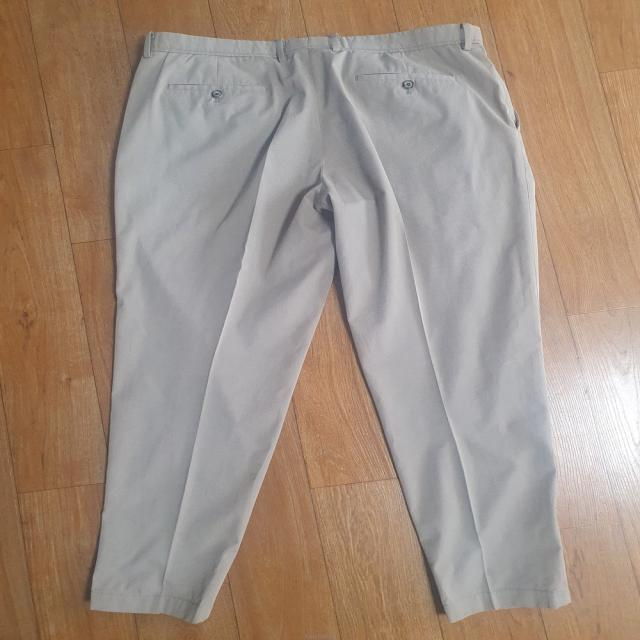long-pants: (82, 28, 576, 623)
